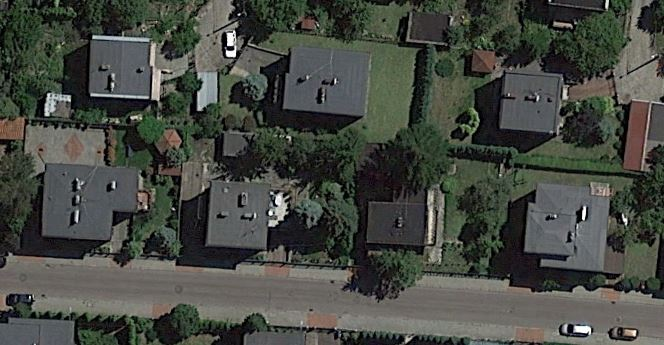family house: (519, 182, 628, 274), (39, 159, 149, 246), (278, 44, 376, 118), (85, 31, 165, 100), (201, 179, 275, 252), (497, 68, 568, 136), (363, 201, 429, 247)
garage: (400, 9, 455, 45)
